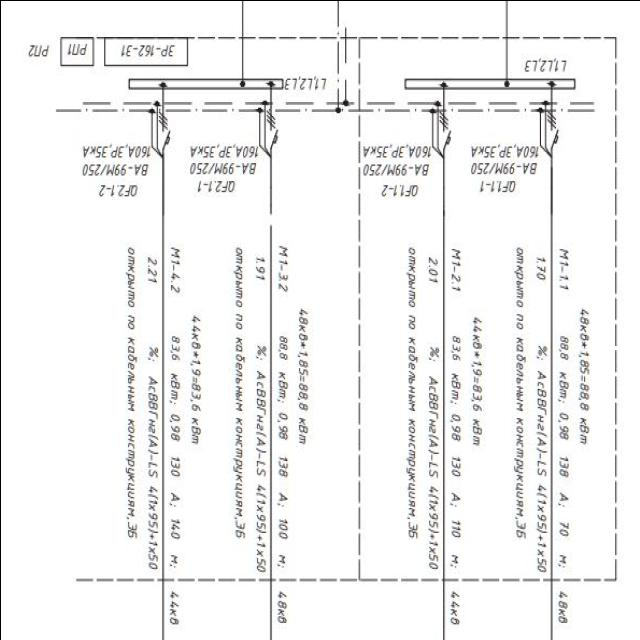-: (183, 138, 260, 174), (75, 142, 151, 178), (464, 142, 540, 178), (358, 142, 433, 178), (64, 40, 176, 60)
QF: (547, 126, 561, 150), (438, 126, 452, 150), (158, 126, 172, 150), (265, 125, 279, 148)
